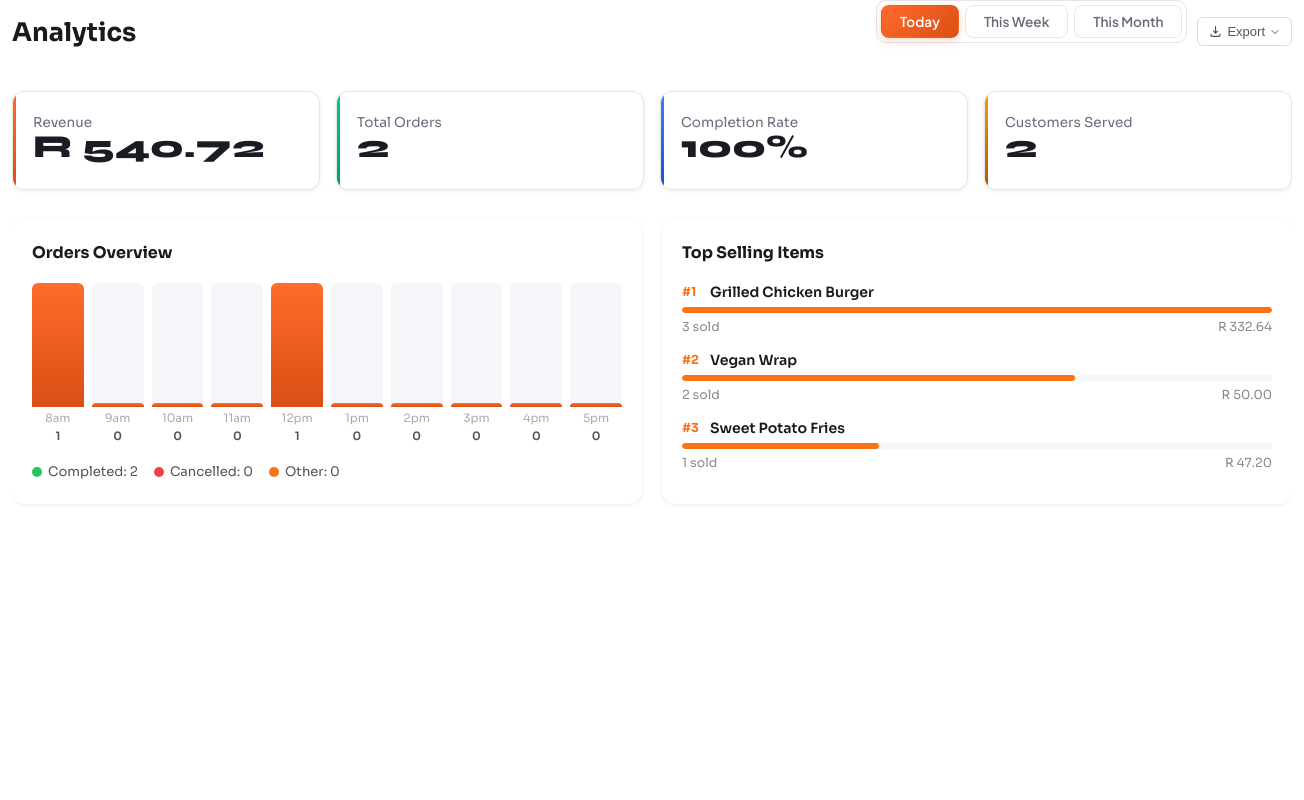
Test case: Analytics – period switching › switches to This Month and includes all orders in the month
What coordinates should you click on to do the following:
click the button "This Month"
I would click on:
 (1128, 22)
Its box is [1074,5,1182,38].
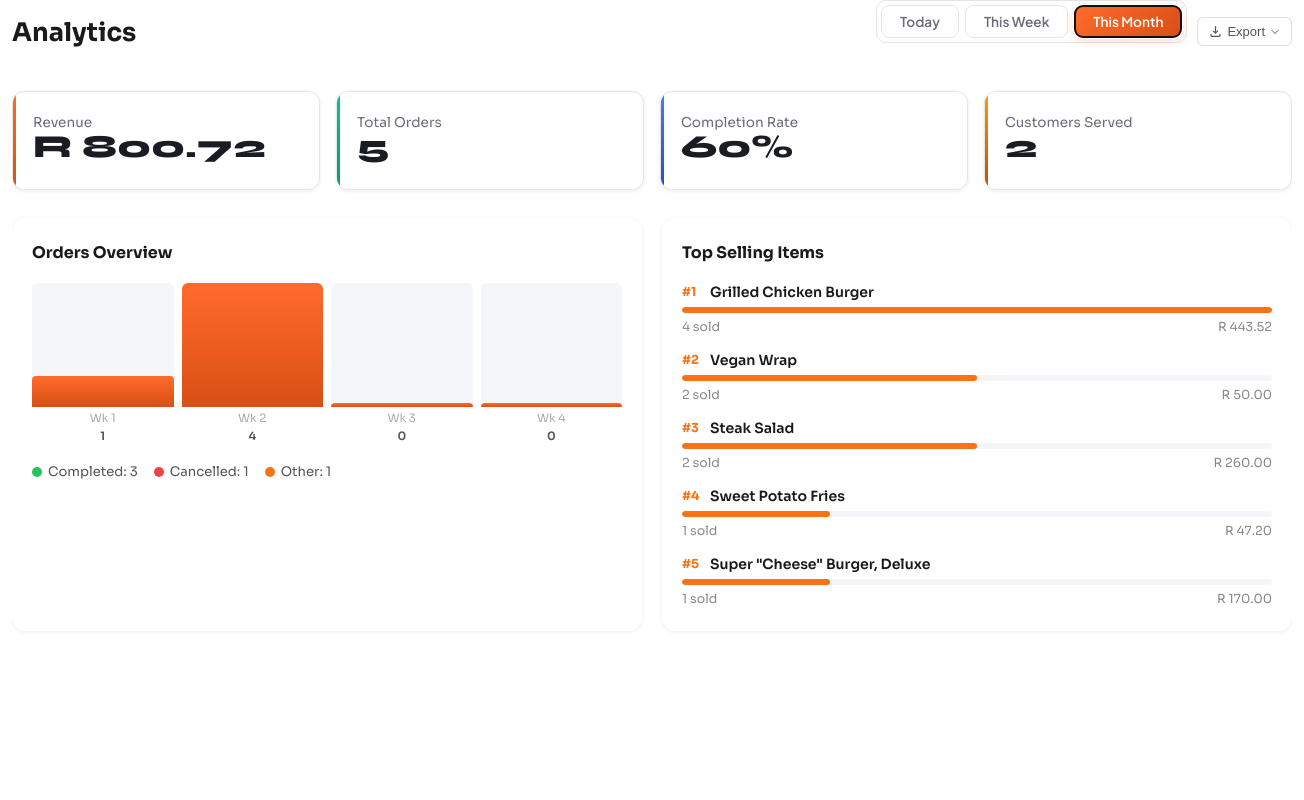
Result: the heading "5" is shown at [357,127,390,166]
Result: the heading "60%" is shown at [681,127,793,166]
